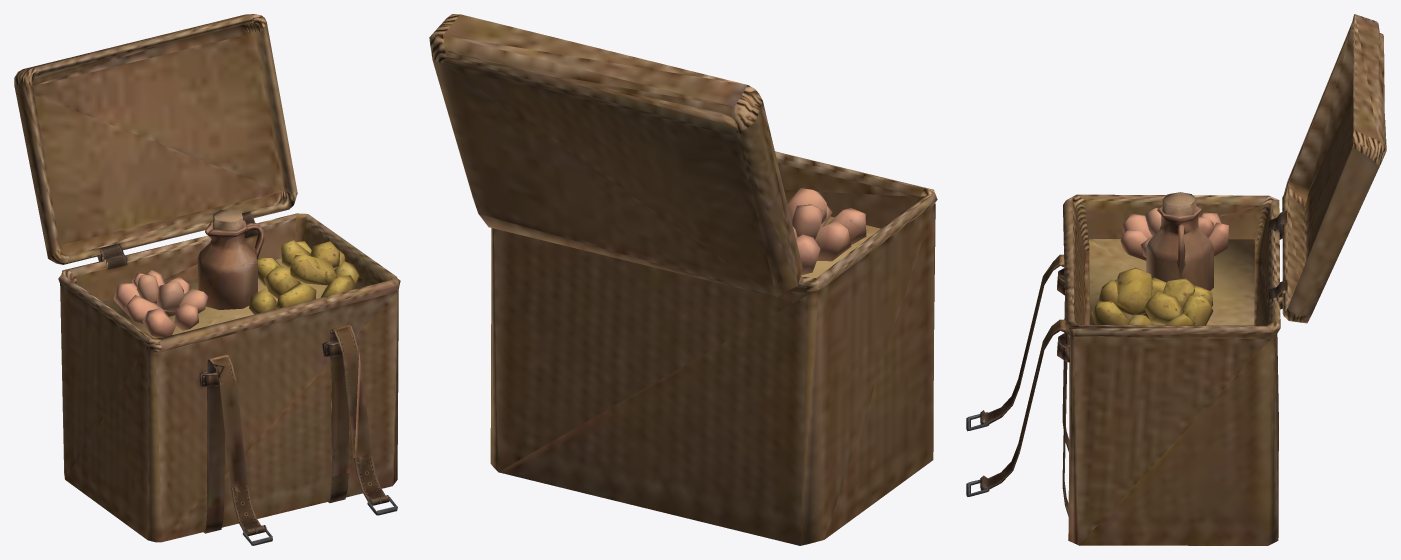
File: pack_hamper.glb
3 views of the same model, side by side, from view 1: azimuth 30°, elevation 25°; view 2: azimuth 150°, elevation 25°; view 3: azimuth 270°, elevation 25° (orthographic). The views are drawn at different scales.
Size of the model in its own units: 0.664 by 0.9492 by 0.8837.
1 material, 1 textured.
